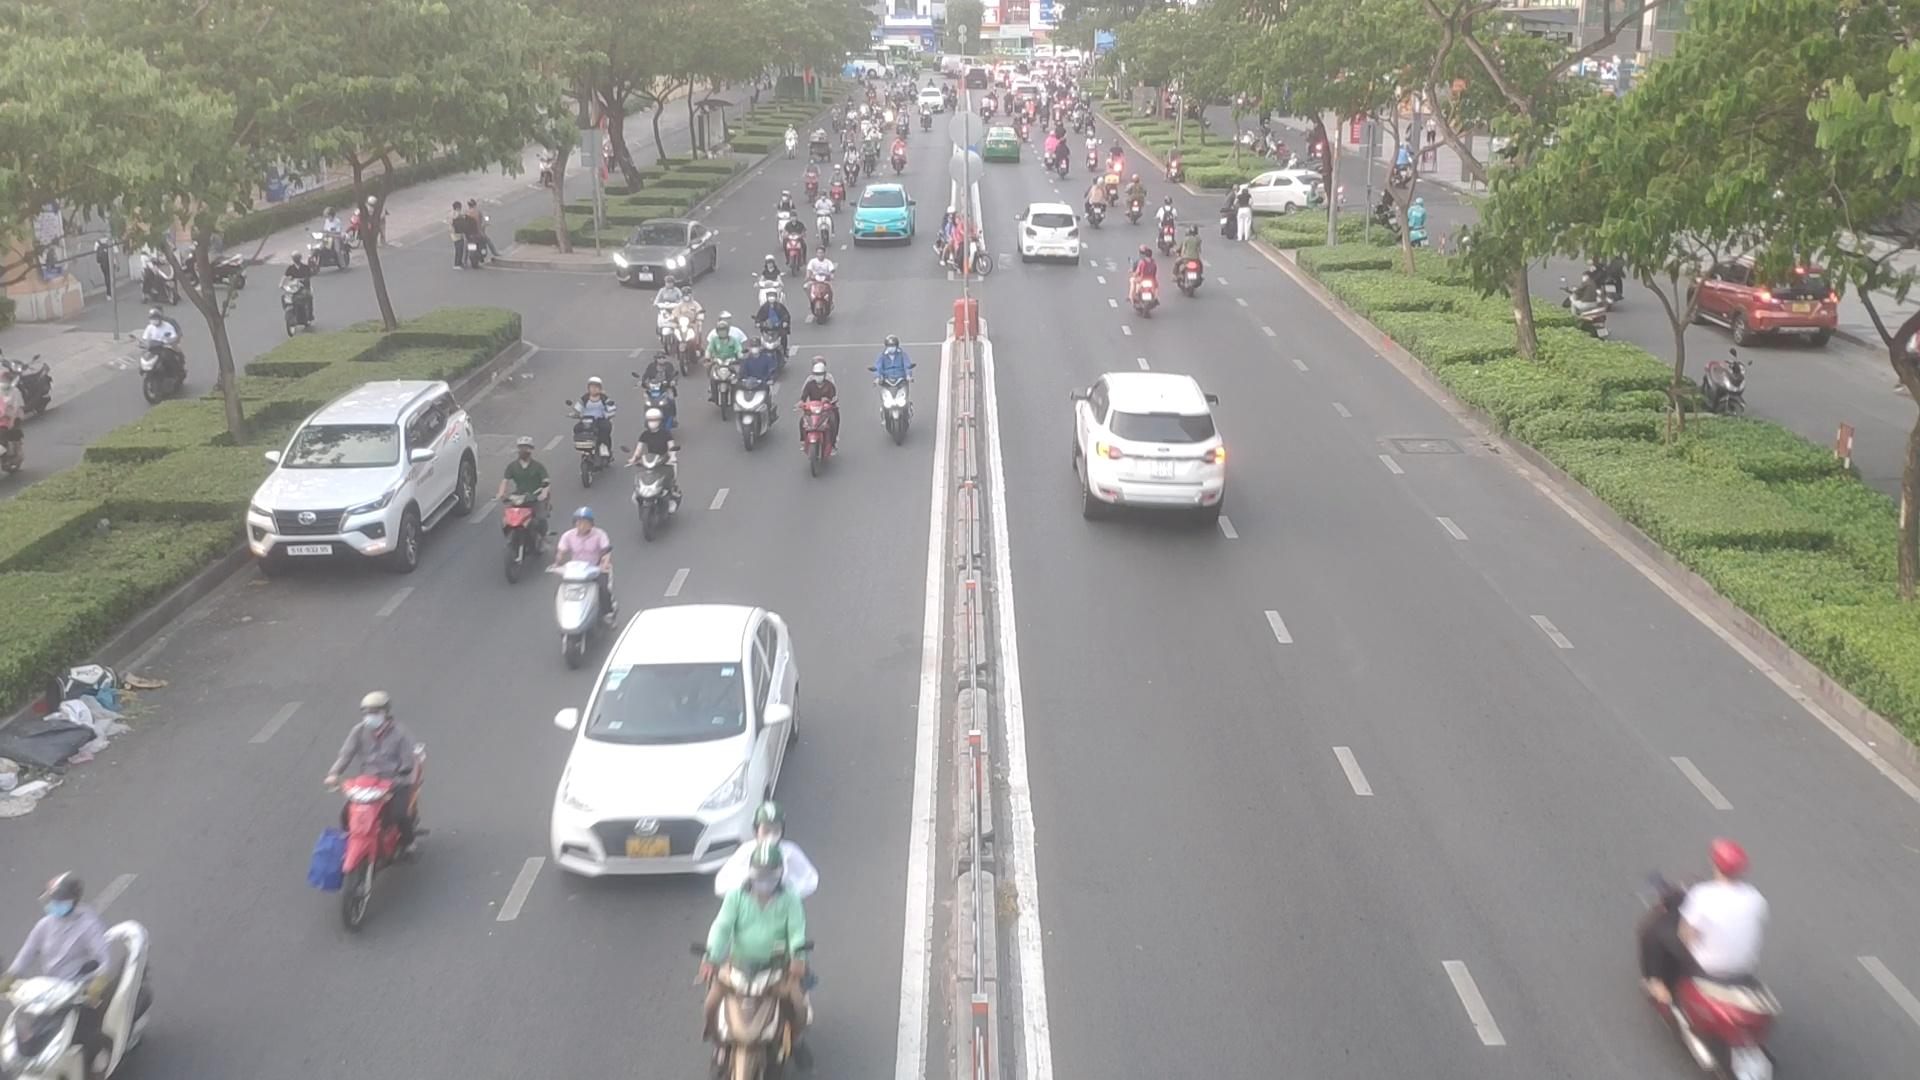car: (545, 605, 806, 881), (247, 382, 488, 576), (1081, 376, 1228, 516), (615, 222, 721, 291), (1017, 200, 1084, 264), (855, 185, 919, 243), (1236, 174, 1317, 216)
motorbike: (1638, 843, 1789, 1080), (9, 860, 166, 1080), (695, 843, 814, 1076), (311, 698, 415, 913), (556, 496, 607, 674), (789, 349, 845, 489), (568, 381, 626, 496), (632, 393, 676, 541), (496, 426, 539, 566), (698, 310, 752, 419), (870, 316, 914, 440), (738, 345, 786, 458), (948, 220, 1002, 301), (669, 289, 711, 371), (758, 290, 796, 367), (651, 273, 684, 356), (1130, 247, 1164, 322), (640, 352, 673, 427), (804, 194, 844, 253), (1159, 200, 1188, 276), (748, 249, 778, 313), (1176, 229, 1203, 302), (783, 218, 814, 278), (808, 251, 833, 314), (777, 196, 803, 239)
